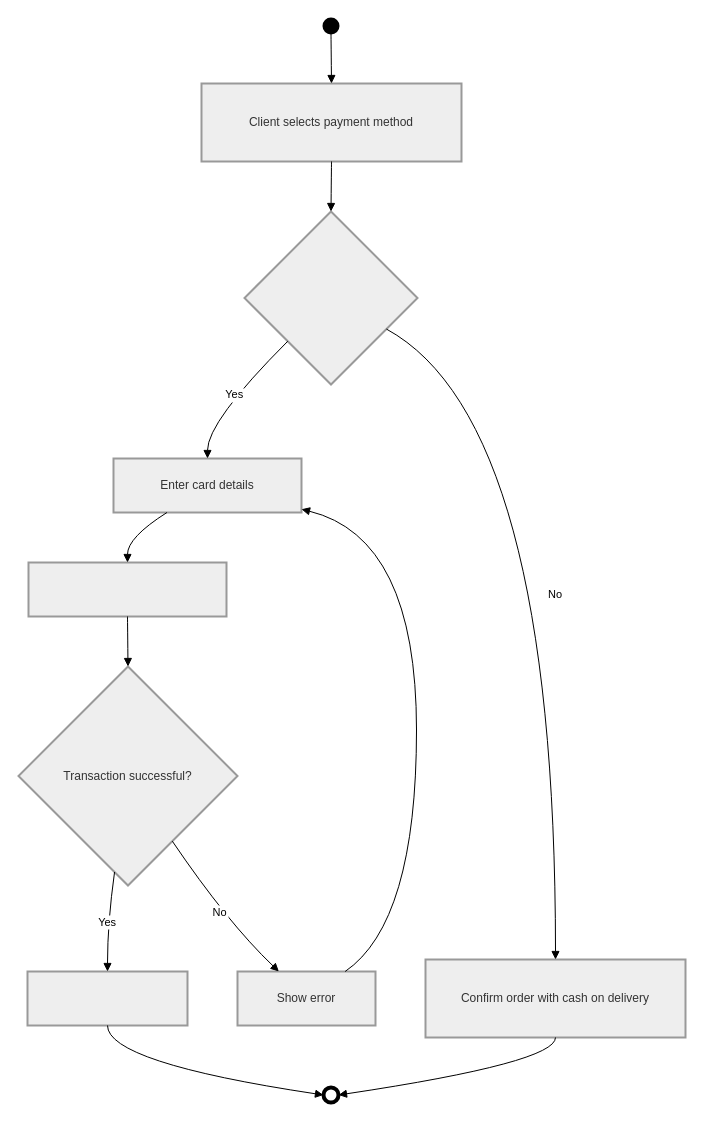
Some shapes in this 703 by 1121 pixel diagram are drawn without their labels. Each missing label, with the box of its shape:
Confirm order: (26, 970, 188, 1026)
Online payment?: (243, 210, 418, 385)
Process transaction: (27, 561, 227, 617)
